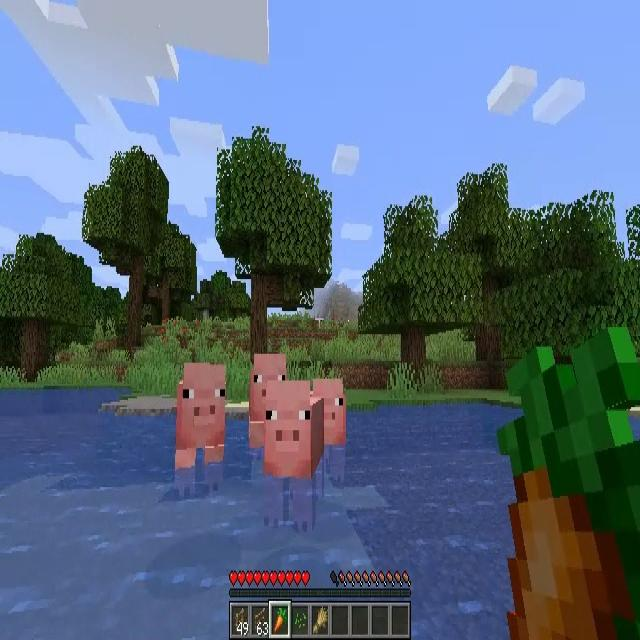pig: (263, 381, 323, 528), (176, 364, 226, 494), (248, 353, 286, 450), (310, 381, 346, 479)
